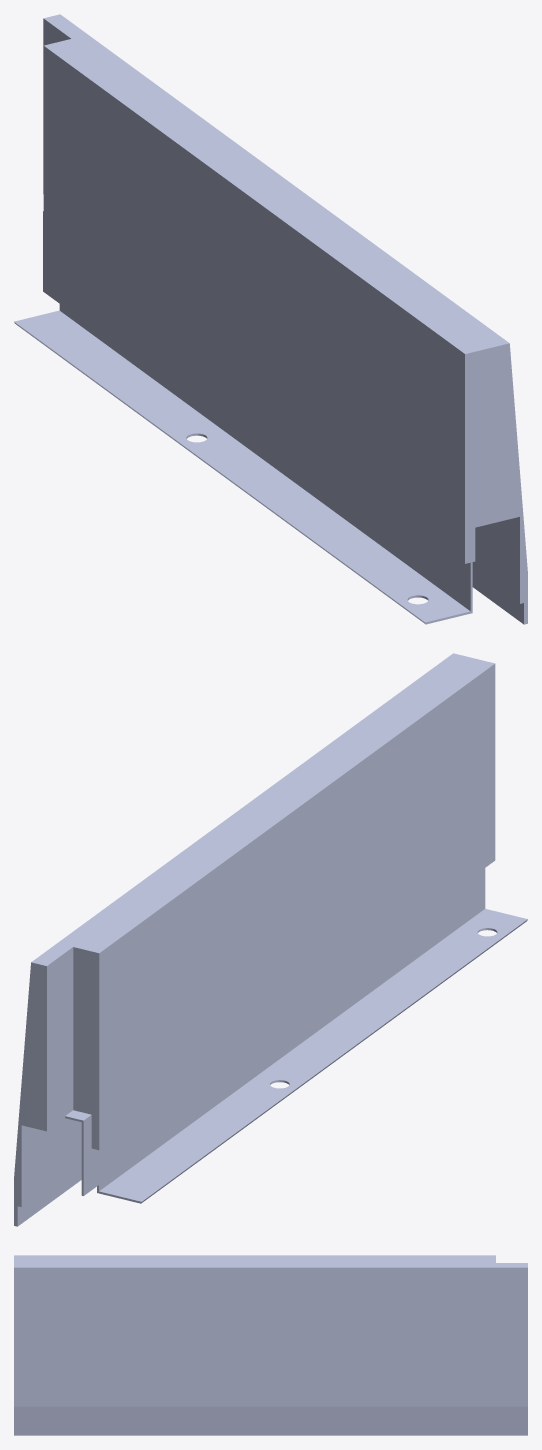
The model's file is mv-kava-M270-m.glb.
The picture shows the model from 3 angles, top to bottom: view 1: azimuth 30°, elevation 25°; view 2: azimuth 150°, elevation 25°; view 3: azimuth 270°, elevation 25°; orthographic projection. The views are drawn at different scales.
Visible parts, largest first — view 1: 48876311; view 2: 48876311; view 3: 48876311.
Part boxes in pixels (box(x1,y1,x2,y2)): 48876311: box(14, 14, 527, 624); 48876311: box(14, 653, 527, 1226); 48876311: box(14, 1255, 527, 1435).
Bounding box in the file's own units: 0.0335 × 0.091 × 0.2602.
